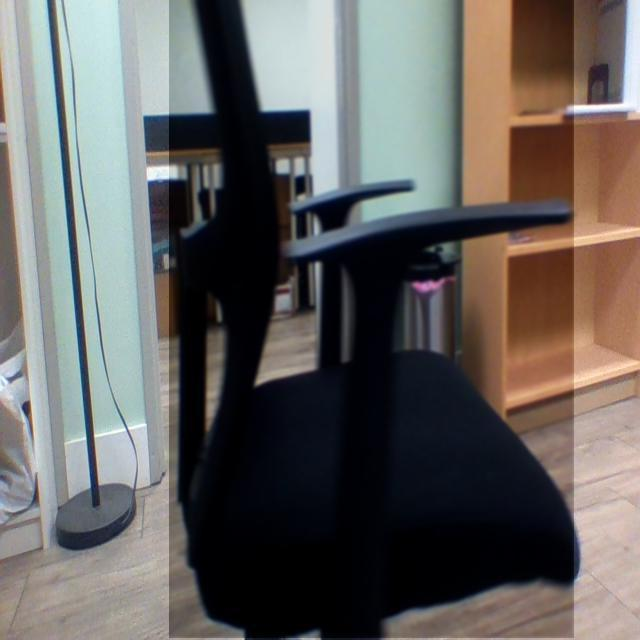chair: (176, 0, 586, 640)
